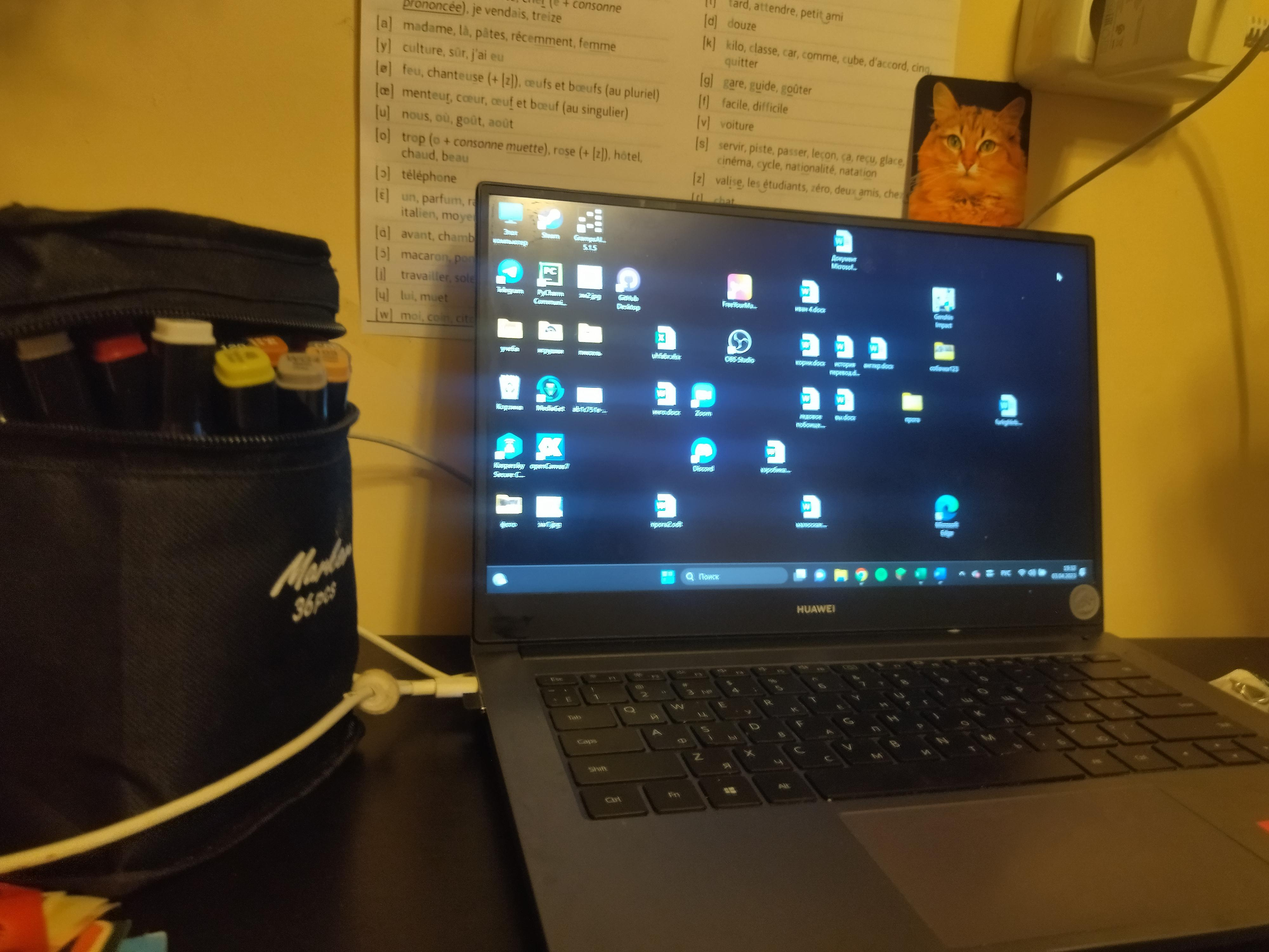monitor: (476, 175, 1107, 649)
